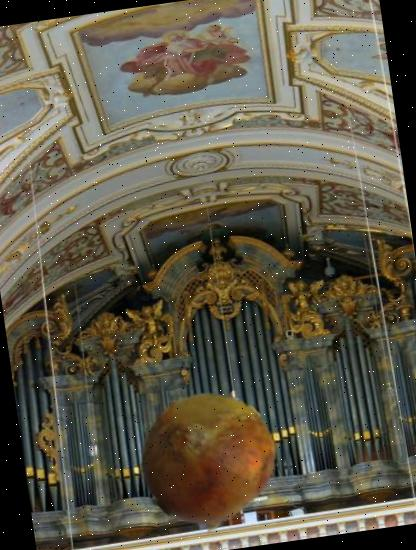Onion: (130, 380, 284, 535)
